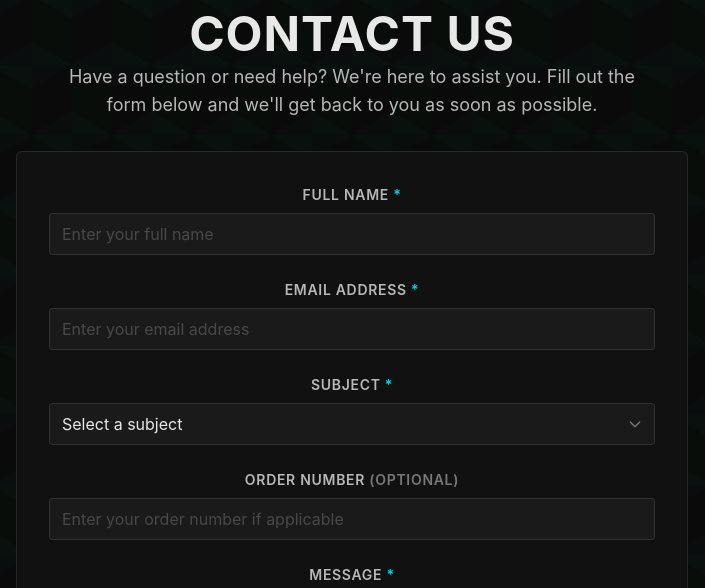
Scenario: ContactUsPage › Form validation › shows validation error for empty full name
Type "a" into the field labelled "Full Name *" at (352, 234), box [49,213,655,255]
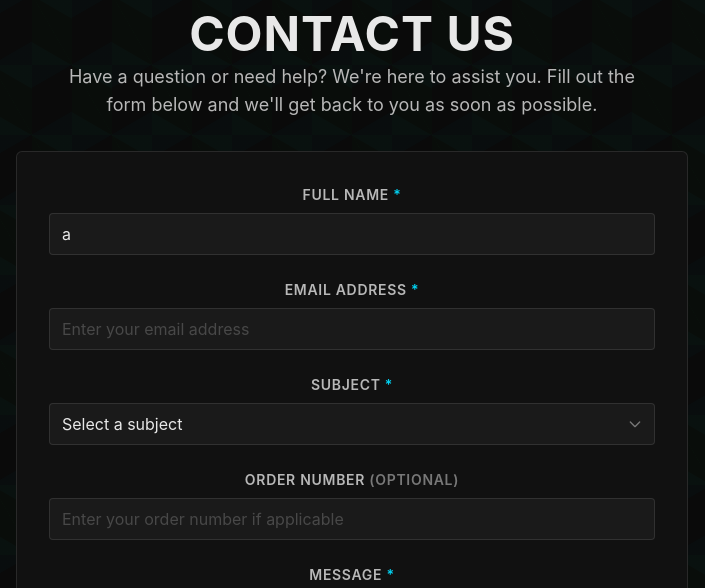
Clear the field labelled "Full Name *" at (352, 234), box [49,213,655,255]
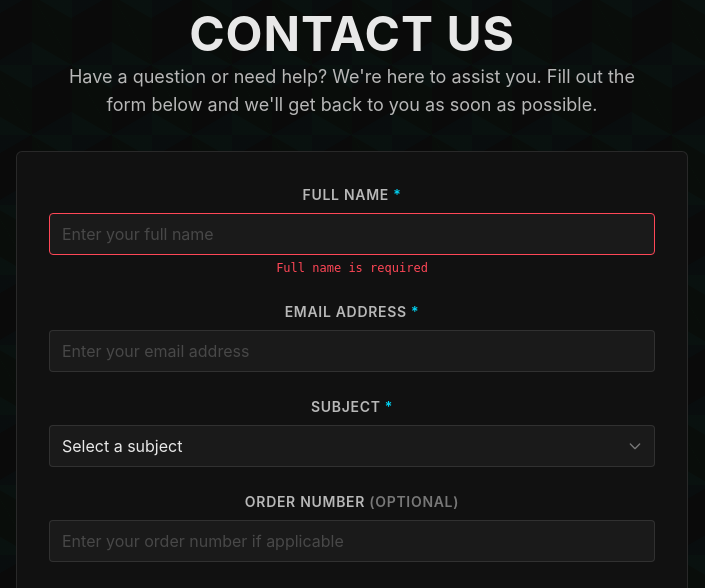
Expected: the text "Full name is required" is shown, [276,261,428,275]
